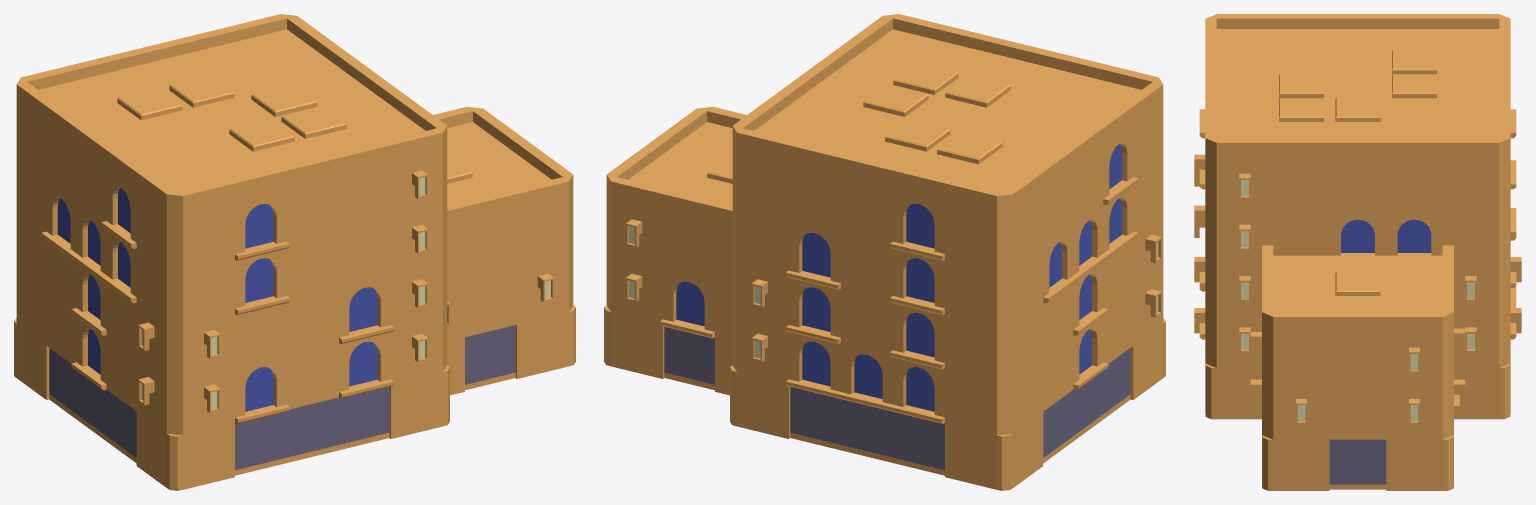
File: house v2.001.fbx
3 views of the same model, side by side, from view 1: azimuth 30°, elevation 25°; view 2: azimuth 150°, elevation 25°; view 3: azimuth 270°, elevation 25° (orthographic). The views are drawn at different scales.
Visible parts, largest first — view 1: House; view 2: House; view 3: House.
Boxes of the visible parts, <box> form: House: <box>14,14,575,490</box>; House: <box>604,14,1165,490</box>; House: <box>1194,14,1521,490</box>.
Size of the model in its own units: 880 by 540 by 580.
